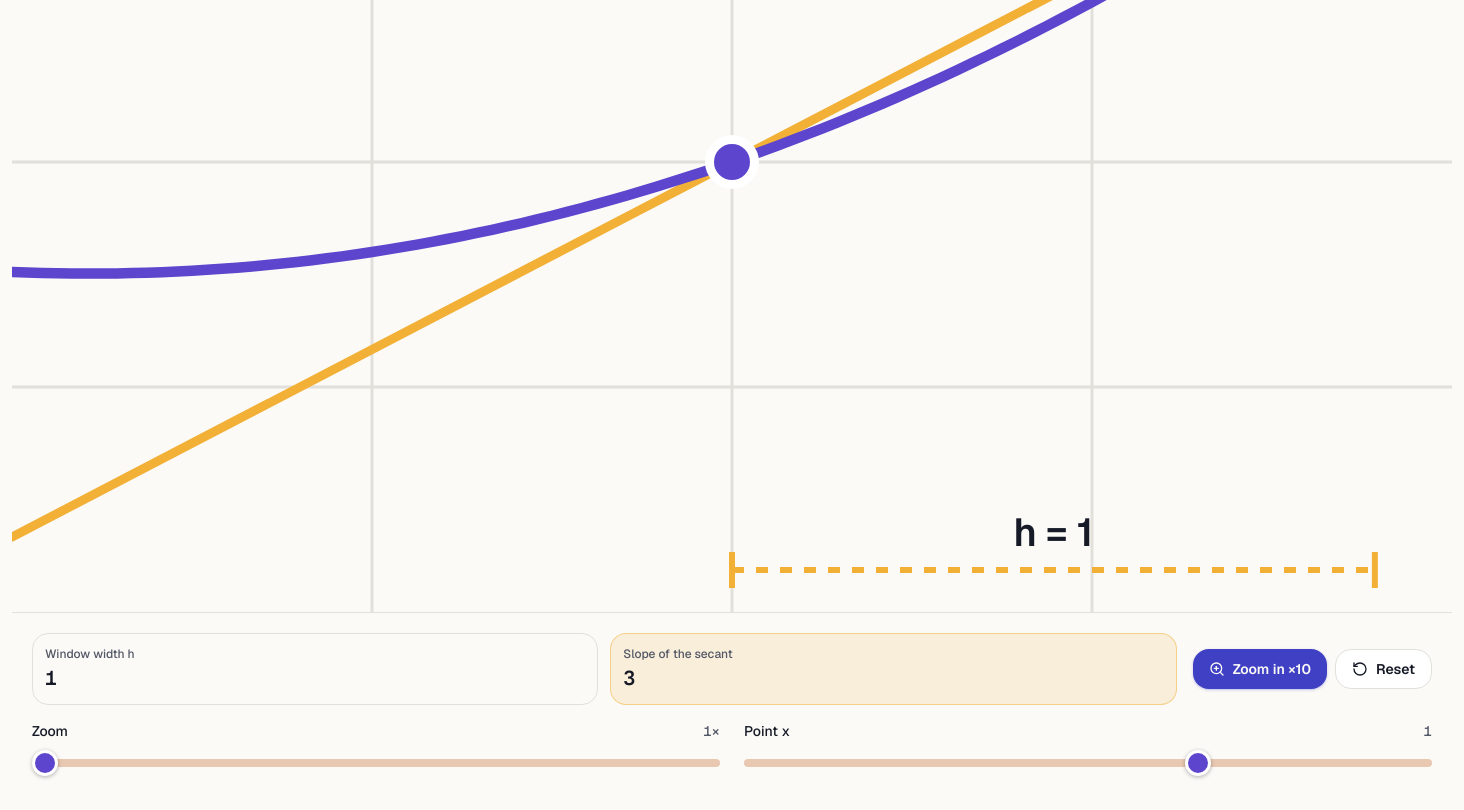
TangentZoom › moves the point and resets
(page scrolled)
Set the slider labelled "Point x 1" to "2" at point(1312, 763), box [744,741,1432,785]
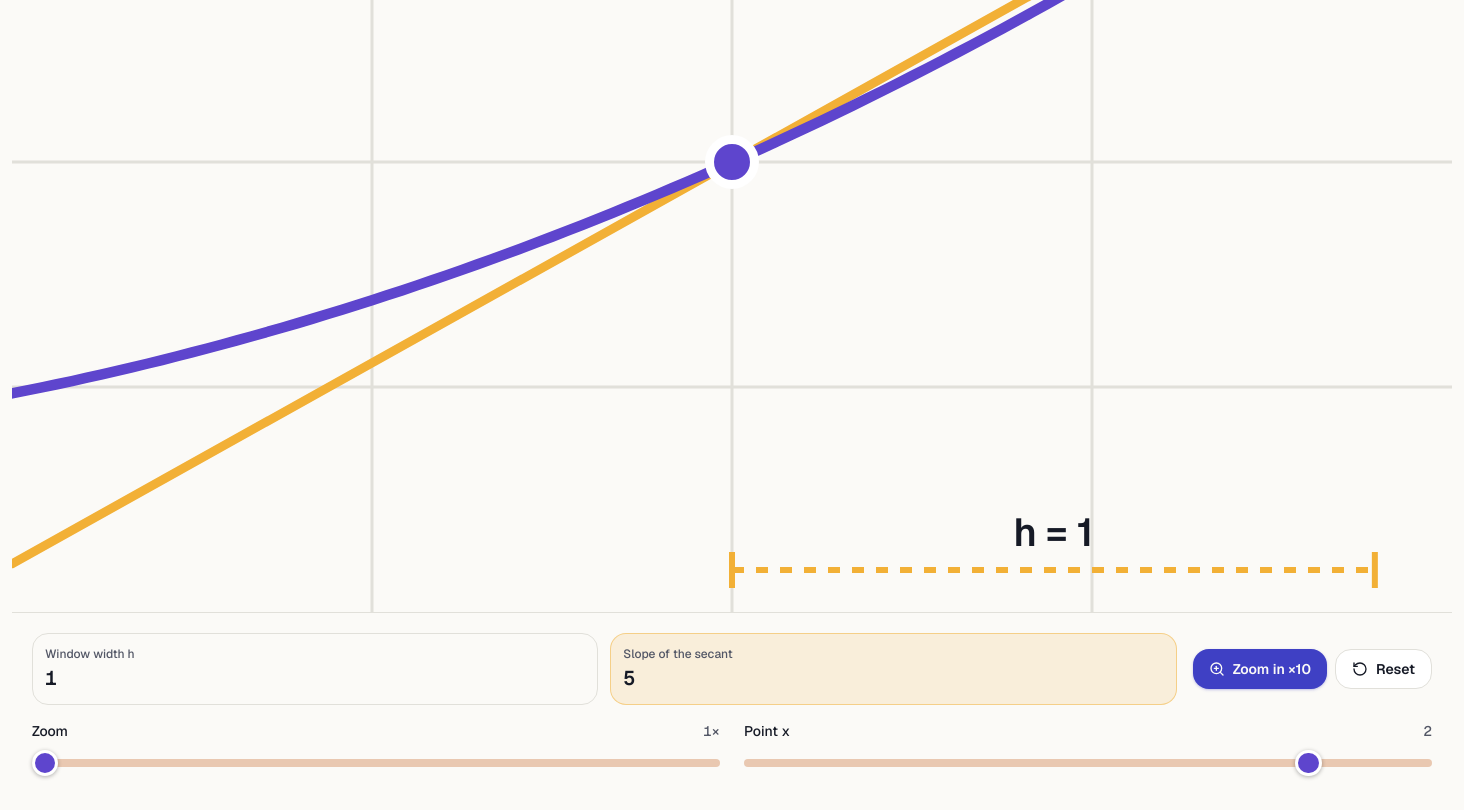
Result: the text with test id "secant-slope" reads "5" at [623,665,635,691]
Click the button "Reset" at point(1384, 669), box [1335,649,1432,689]
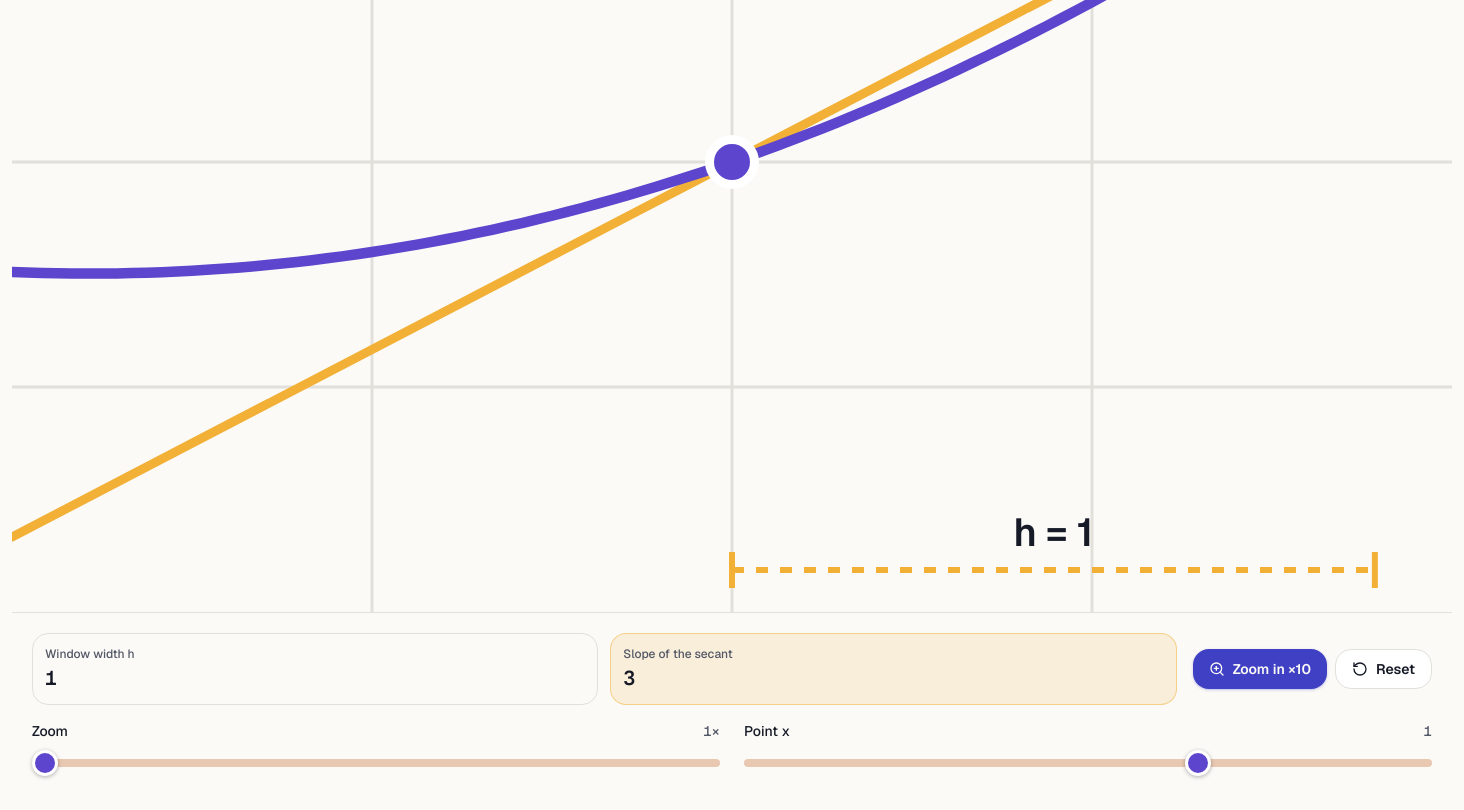
Result: the text with test id "secant-slope" reads "3" at [623,665,635,691]
